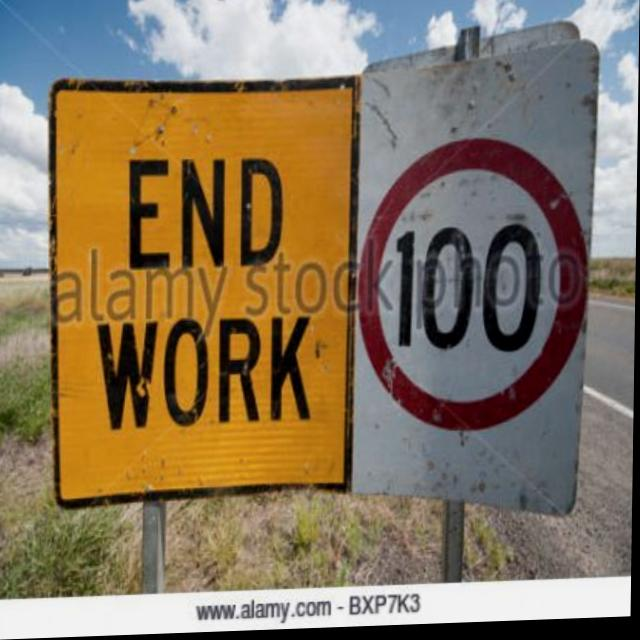limit100: (324, 130, 605, 447)
